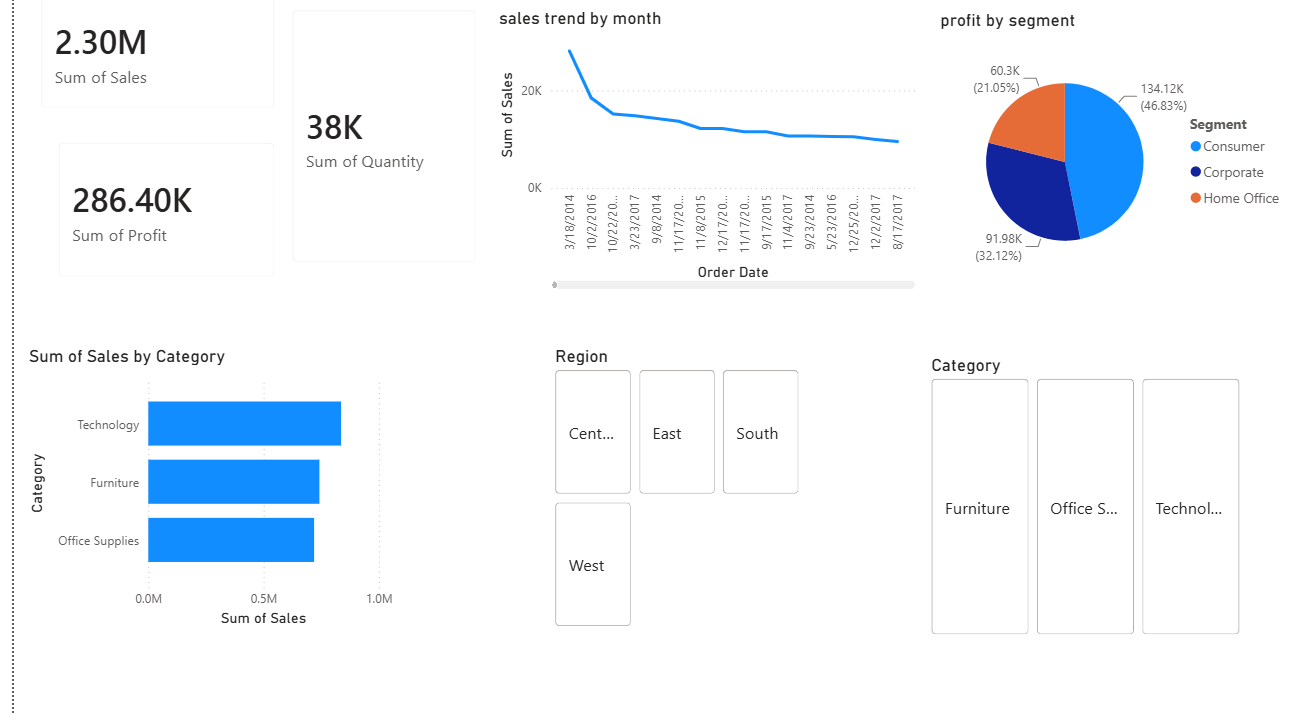

The dashboard page shown, as its layout file describes it:
{"tool":"powerbi","page":{"name":"Page 1","canvas":[1280,720],"ordinal":0},"visuals":[{"type":"cardVisual","fields":{"Data":["Sum(Sample - Superstore.Sales)"]},"box":[9.8,0,262.9,144.3],"z":0},{"type":"cardVisual","fields":{"Data":["Sum(Sample - Superstore.Profit)"]},"box":[26.9,144.3,245.8,165.1],"z":1},{"type":"cardVisual","fields":{"Data":["Sum(Sample - Superstore.Quantity)"]},"box":[255.6,14.7,214,280],"z":2},{"type":"clusteredBarChart","fields":{"Category":["Sample - Superstore.Category"],"Y":["Sum(Sample - Superstore.Sales)"]},"box":[9.6,359.5,366.4,279.9],"z":3},{"type":"lineChart","title":"sales trend by month","fields":{"Category":["Sample - Superstore.Order Date"],"Y":["Sum(Sample - Superstore.Sales)"]},"box":[469.6,29.3,417,280],"z":4},{"type":"pieChart","title":"profit by segment","fields":{"Category":["Sample - Superstore.Segment"],"Y":["Sum(Sample - Superstore.Profit)"]},"box":[901.2,30.6,351,280],"z":5},{"type":"advancedSlicerVisual","fields":{"Values":["Sample - Superstore.Region"]},"box":[524.6,359.5,248.2,280],"z":6},{"type":"advancedSlicerVisual","fields":{"Values":["Sample - Superstore.Category"]},"box":[892.7,368.1,311.8,280],"z":7}]}

Visuals, with their boxes in screenshot pixels (x1, y1, x2, y2), scaled from the page's 1280x720 canvas onto the 1302x713 screenshot:
cardVisual - Sum(Sample - Superstore.Sales): rect(10, 0, 277, 143)
cardVisual - Sum(Sample - Superstore.Profit): rect(27, 143, 277, 306)
cardVisual - Sum(Sample - Superstore.Quantity): rect(260, 15, 478, 292)
clusteredBarChart - Sample - Superstore.Category x Sum(Sample - Superstore.Sales): rect(10, 356, 382, 633)
"sales trend by month" lineChart: rect(478, 29, 902, 306)
"profit by segment" pieChart: rect(917, 30, 1274, 308)
advancedSlicerVisual - Sample - Superstore.Region: rect(534, 356, 786, 633)
advancedSlicerVisual - Sample - Superstore.Category: rect(908, 365, 1225, 642)
